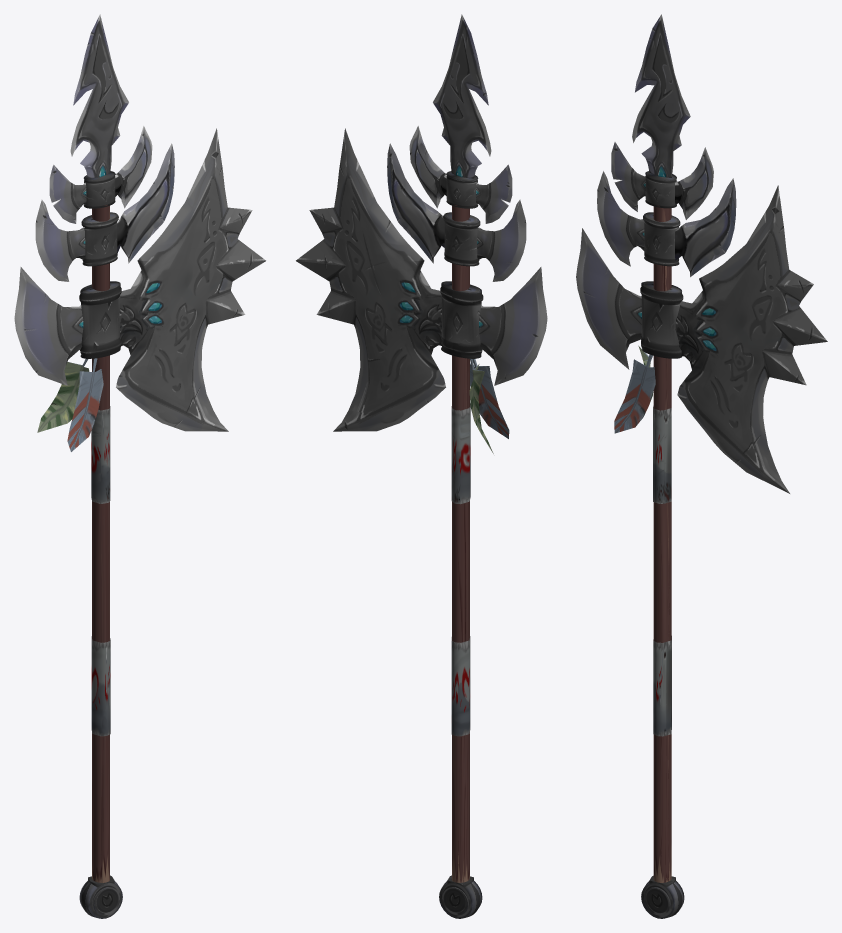
Rendered from TaurenPikeModelFinal.fbx.
3 renders of one model, left to right at view 1: azimuth 30°, elevation 25°; view 2: azimuth 150°, elevation 25°; view 3: azimuth 330°, elevation 25°, orthographic.
Parts seen in each view (by area): view 1: Axe, Cylinderlast.001, Cylinder.003, Plane.006, Leaf1, Cylinder.002; view 2: Axe, Cylinderlast.001, Cylinder.003, Plane.006, Leaf1, Cylinder.002; view 3: Axe, Cylinderlast.001, Cylinder.003, Plane.006, Leaf1, Cylinder.002.
Part boxes in pixels (x1,y1,x2,y2): Axe: (14,14,265,431); Cylinderlast.001: (92,204,109,882); Cylinder.003: (79,171,121,358); Plane.006: (91,406,110,736); Leaf1: (37,358,103,451); Cylinder.002: (79,875,122,918); Axe: (296,14,547,431); Cylinderlast.001: (452,204,469,882); Cylinder.003: (440,171,483,358); Plane.006: (451,403,470,736); Leaf1: (469,358,509,453); Cylinder.002: (439,875,482,918); Axe: (576,14,827,493); Cylinderlast.001: (653,205,671,882); Cylinder.003: (640,171,683,358); Plane.006: (653,406,671,736); Leaf1: (614,345,655,433); Cylinder.002: (641,875,684,918).
Size of the model in its own units: 563 by 1929 by 97.57.
1 material, 1 textured.
